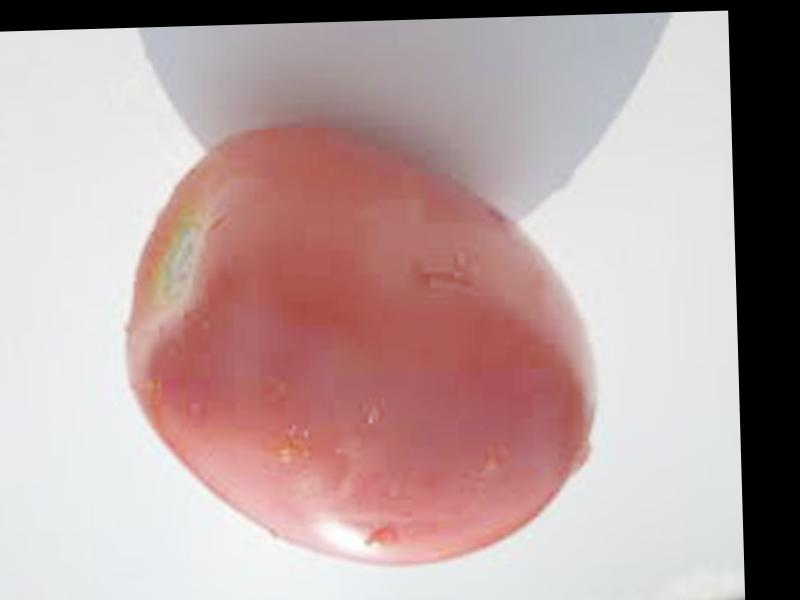Tomato: (120, 119, 599, 574)
